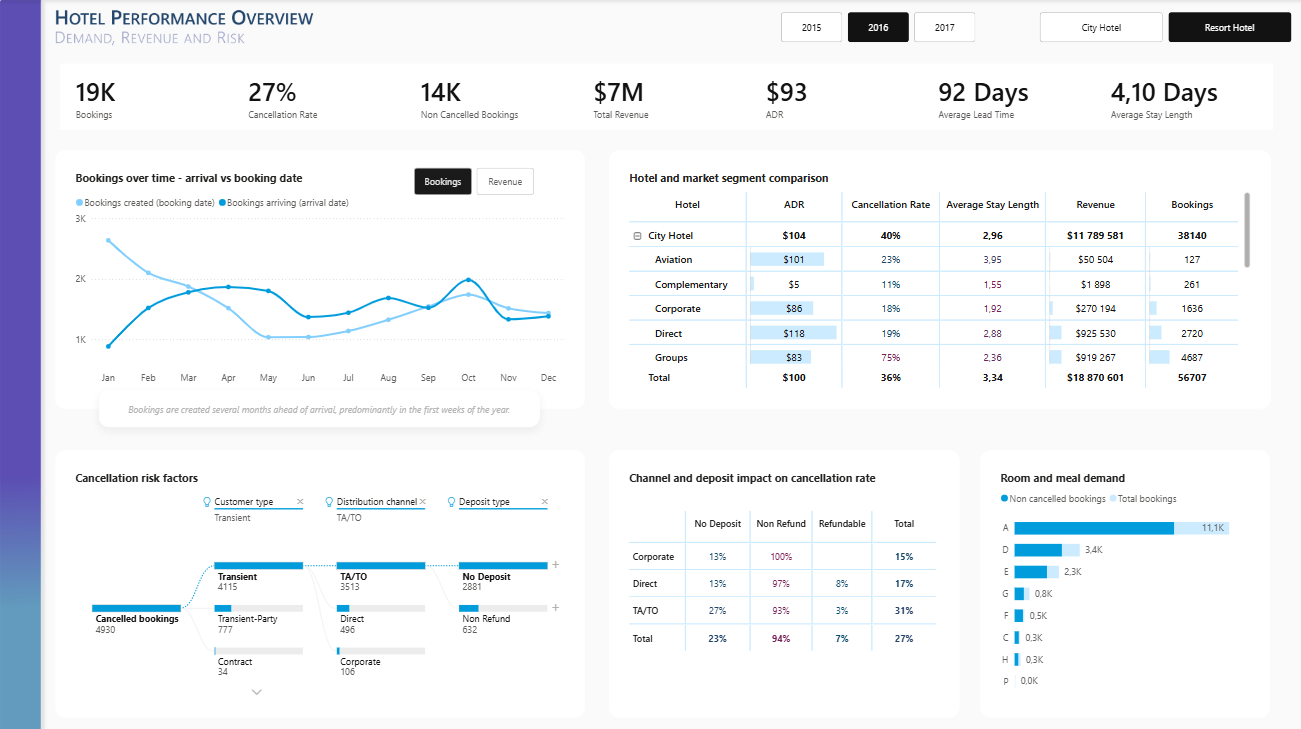

Layout of this report page (visuals, bound fields, positions):
{"tool":"powerbi","page":{"name":"Dashboard","canvas":[1920,1080],"ordinal":0},"visuals":[{"type":"image","box":[61.2,0,419.2,84.6],"z":0},{"type":"cardVisual","fields":{"Data":["00_Measures.Bookings Count Total","00_Measures.Cancellation Rate","00_Measures.Bookings Count Non-Cancelled","00_Measures.Revenue Total","00_Measures.ADR","00_Measures.Lead Time AVG","00_Measures.Length of Stay AVG"]},"box":[61.2,83.8,1847.5,137.5],"z":1000},{"type":"advancedSlicerVisual","fields":{"Values":["Dim_Hotel.hotel"]},"box":[1527,14.6,381.1,54.3],"z":2000},{"type":"decompositionTreeVisual","title":"Cancellation risk factors","fields":{"ExplainBy":["Dim_Reservation.distribution_channel","Dim_Customer.customer_type","Dim_Reservation.deposit_type","Dim_Reservation.market_segment"],"Analyze":["00_Measures.Bookings Count Cancelled"]},"box":[83.7,664.1,780.2,393.9],"z":3000},{"type":"advancedSlicerVisual","fields":{"Values":["Dim_Date.Year"]},"box":[1147.2,14.6,297.7,54.3],"z":4000},{"type":"lineChart","title":"Bookings over time - arrival vs booking date","fields":{"Y":["00_Measures.Bookings (Booking Date) Count Total","00_Measures.Bookings Count Total"],"Category":["Dim_Date.MonthNameShort","Dim_Date.WeekOfYearNumber"]},"box":[83.7,222.6,780.2,380.6],"z":5000},{"type":"textbox","box":[148,576,648.8,54.7],"z":7000},{"type":"actionButton","box":[610.9,248.2,85.5,40],"z":10000},{"type":"actionButton","box":[702.7,248.2,84.5,40],"z":11000},{"type":"pivotTable","title":"Hotel and market segment comparison","fields":{"Values":["00_Measures.ADR","00_Measures.Cancellation Rate","00_Measures.Length of Stay AVG","00_Measures.Revenue Total","00_Measures.Bookings Count Total"],"Rows":["Dim_Hotel.hotel","Dim_Reservation.market_segment"]},"box":[898.2,222.6,974.3,380.6],"z":13000},{"type":"pivotTable","title":"Channel and deposit impact on cancellation rate","fields":{"Columns":["Dim_Reservation.deposit_type"],"Rows":["Dim_Reservation.distribution_channel"],"Values":["00_Measures.Cancellation Rate"]},"box":[898.2,664.1,515.7,393.9],"z":14000},{"type":"clusteredBarChart","title":"Room and meal demand","fields":{"Y":["00_Measures.Bookings Count Non-Cancelled","00_Measures.Bookings Count Total"],"Category":["Dim_Accomodation.reserved_room_type","Dim_Accomodation.meal"]},"box":[1445.6,664.4,426.7,393.3],"z":15000}]}

Visuals, with their boxes in screenshot pixels (x1, y1, x2, y2), scaled from the page's 1920x1080 canvas onto the 1301x729 screenshot:
image: bbox=(41, 0, 326, 57)
cardVisual - 00_Measures.Bookings Count Total x 00_Measures.Cancellation Rate: bbox=(41, 57, 1293, 149)
advancedSlicerVisual - Dim_Hotel.hotel: bbox=(1035, 10, 1293, 47)
"Cancellation risk factors" decompositionTreeVisual: bbox=(57, 448, 585, 714)
advancedSlicerVisual - Dim_Date.Year: bbox=(777, 10, 979, 47)
"Bookings over time - arrival vs booking date" lineChart: bbox=(57, 150, 585, 407)
textbox: bbox=(100, 389, 540, 426)
actionButton: bbox=(414, 168, 472, 195)
actionButton: bbox=(476, 168, 533, 195)
"Hotel and market segment comparison" pivotTable: bbox=(609, 150, 1269, 407)
"Channel and deposit impact on cancellation rate" pivotTable: bbox=(609, 448, 958, 714)
"Room and meal demand" clusteredBarChart: bbox=(980, 448, 1269, 714)
